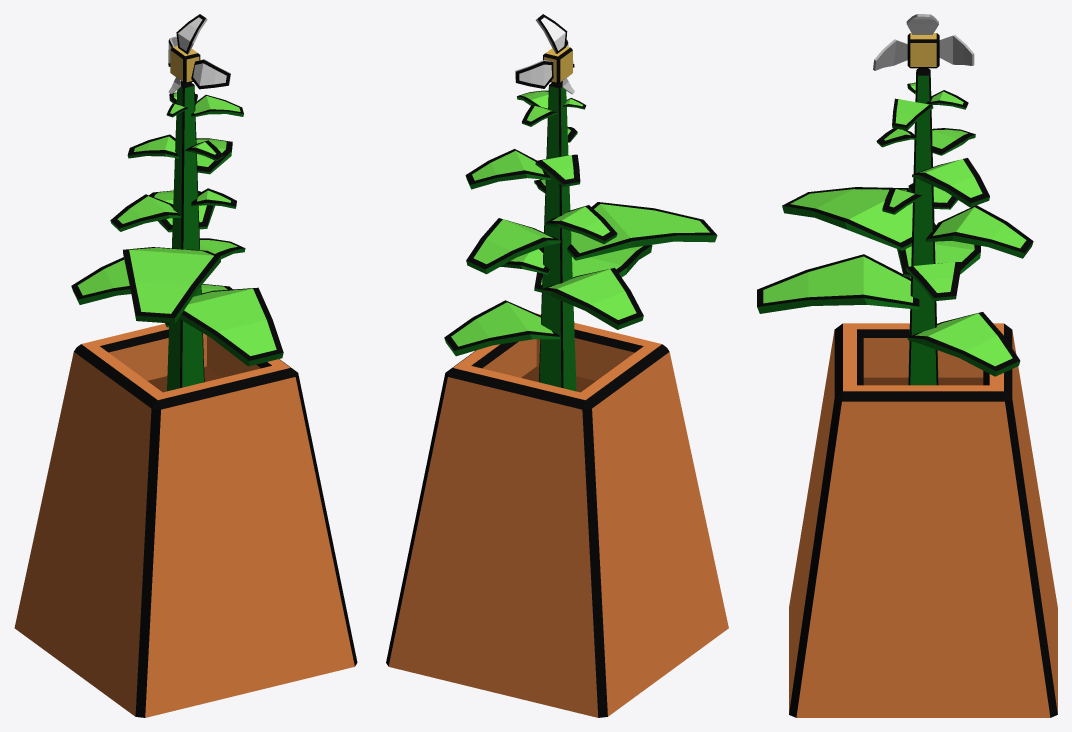
Rendered from OF_Plant 1.fbx.
3 renders of one model, left to right at view 1: azimuth 30°, elevation 25°; view 2: azimuth 150°, elevation 25°; view 3: azimuth 270°, elevation 25°, orthographic. The views are drawn at different scales.
Parts seen in each view (by area): view 1: Planta.002; view 2: Planta.002; view 3: Planta.002.
Boxes of the visible parts, bbox=[...] form: Planta.002: bbox=[14, 14, 357, 717]; Planta.002: bbox=[386, 14, 728, 717]; Planta.002: bbox=[757, 14, 1057, 717].
Bounding box in the file's own units: 54.72 × 147 × 61.2.
